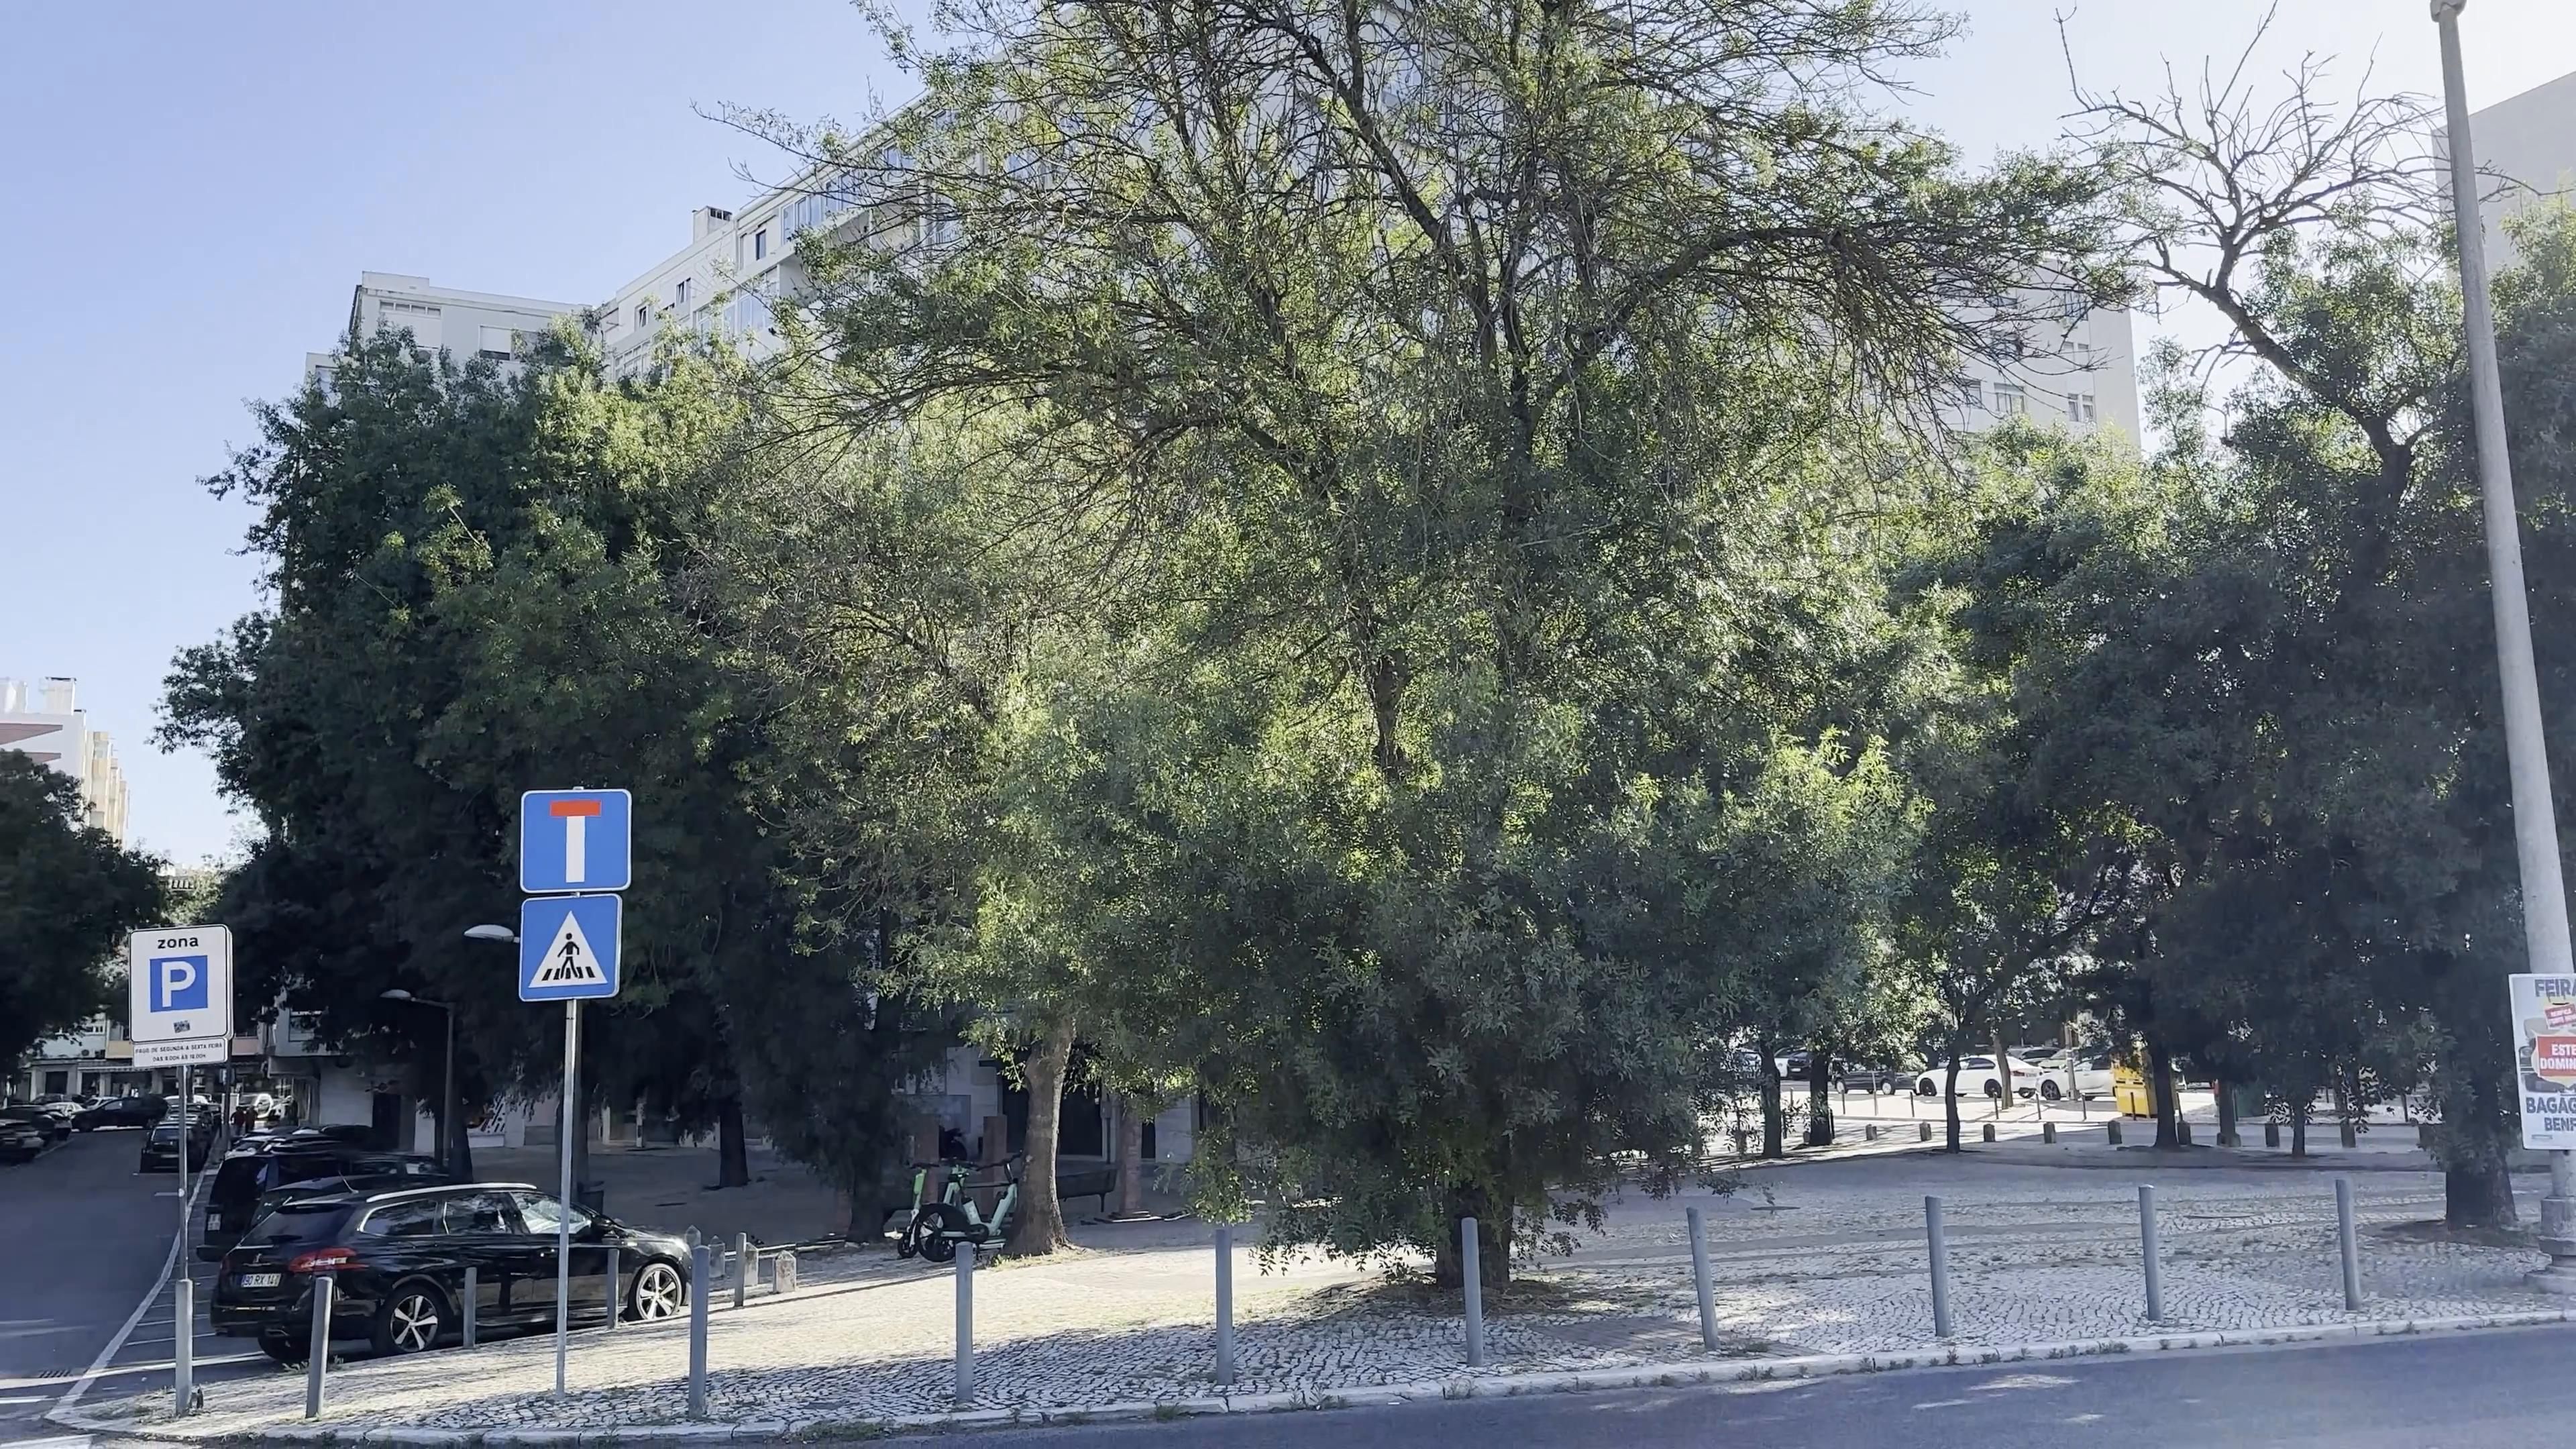via publica sem saida: (513, 780, 640, 892)
zona de estacionamento autorizado: (129, 920, 237, 1037)
